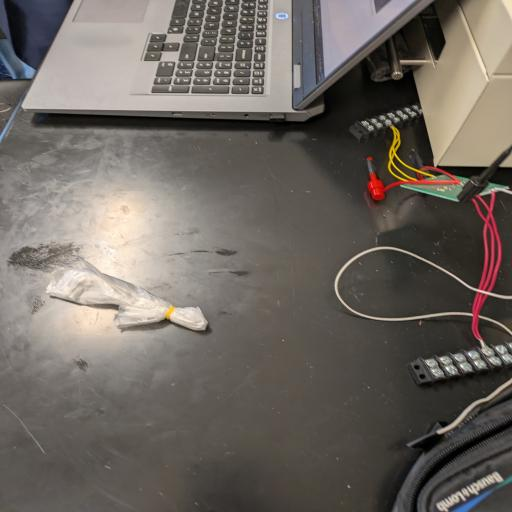rubberband: (45, 255, 212, 336)
